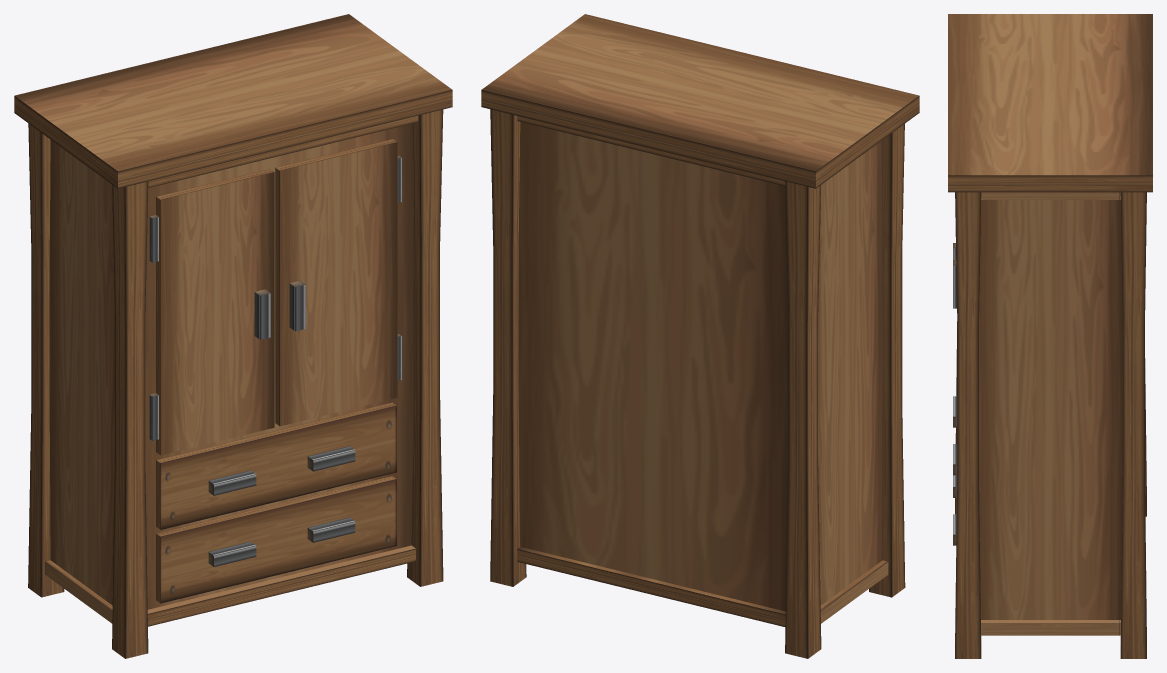
File: Convenient_02.FBX
The picture shows the model from 3 angles, left to right: view 1: azimuth 30°, elevation 25°; view 2: azimuth 150°, elevation 25°; view 3: azimuth 270°, elevation 25°; orthographic projection.
Parts seen in each view (by area): view 1: Convenient_02; view 2: Convenient_02; view 3: Convenient_02.
Part boxes in pixels (left/top/right/bottom): Convenient_02: left=14, top=14, right=452, bottom=658; Convenient_02: left=481, top=14, right=919, bottom=658; Convenient_02: left=948, top=14, right=1152, bottom=658.
Bounding box in the file's own units: 1.12 × 1.58 × 0.6033.
